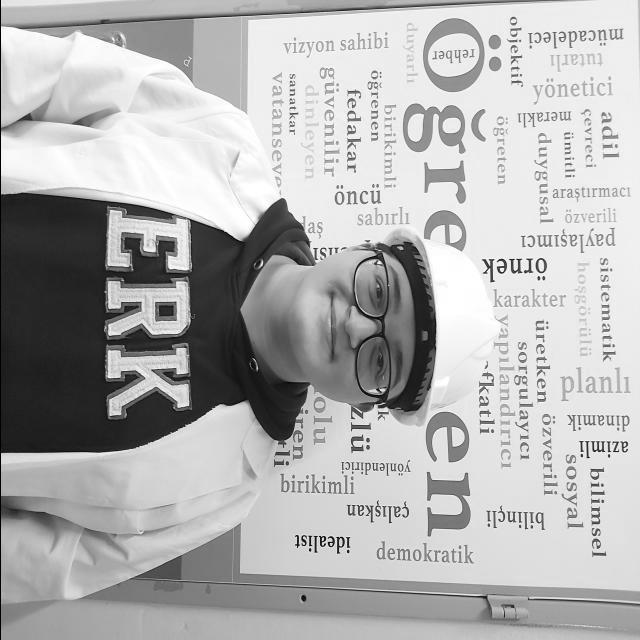construction helmet: (392, 236, 487, 426)
